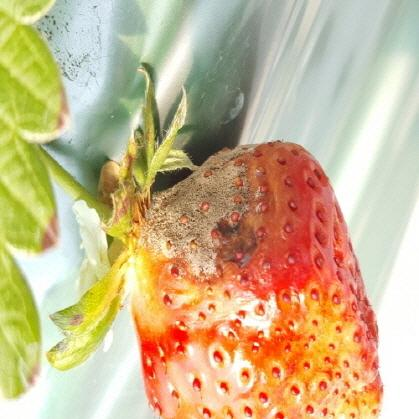Gray Mold: (125, 141, 286, 288)
